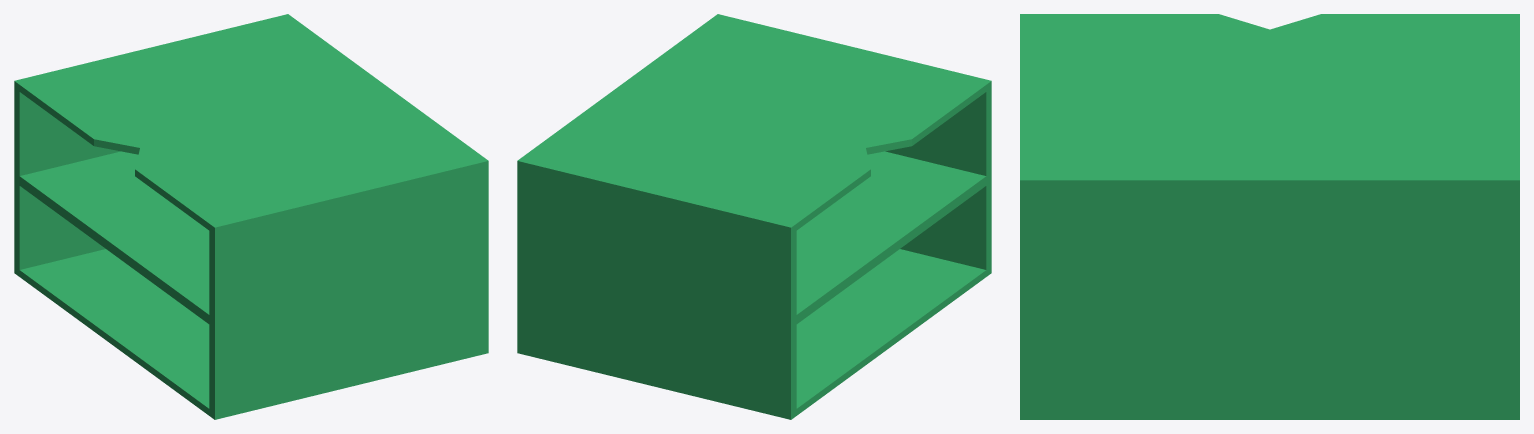
The model's file is PaperHolder.FBX.
3 views of the same model, side by side, from view 1: azimuth 30°, elevation 25°; view 2: azimuth 150°, elevation 25°; view 3: azimuth 270°, elevation 25° (orthographic). The views are drawn at different scales.
Visible parts, largest first — view 1: LetterHolder; view 2: LetterHolder; view 3: LetterHolder.
Boxes of the visible parts, <box> form: LetterHolder: <box>14,14,488,419</box>; LetterHolder: <box>517,14,991,419</box>; LetterHolder: <box>1020,14,1519,419</box>.
Size of the model in its own units: 11.94 by 8.01 by 15.15.
1 material, 1 textured.
